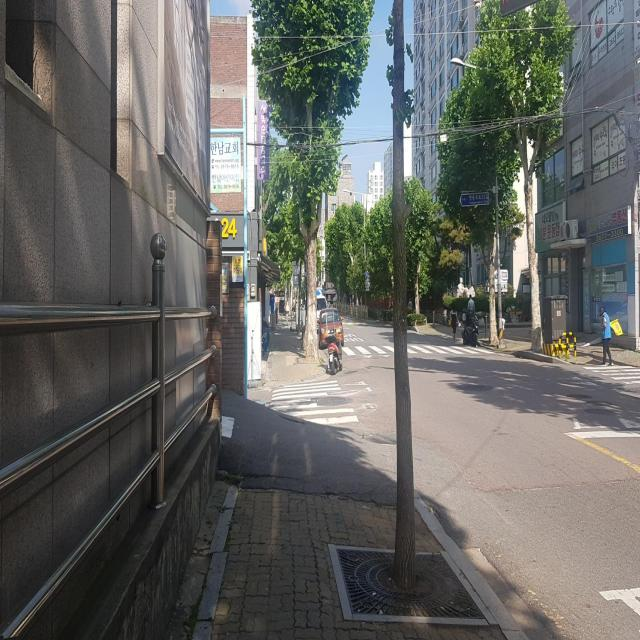횡단보도: (326, 333, 496, 358), (269, 379, 359, 426)
